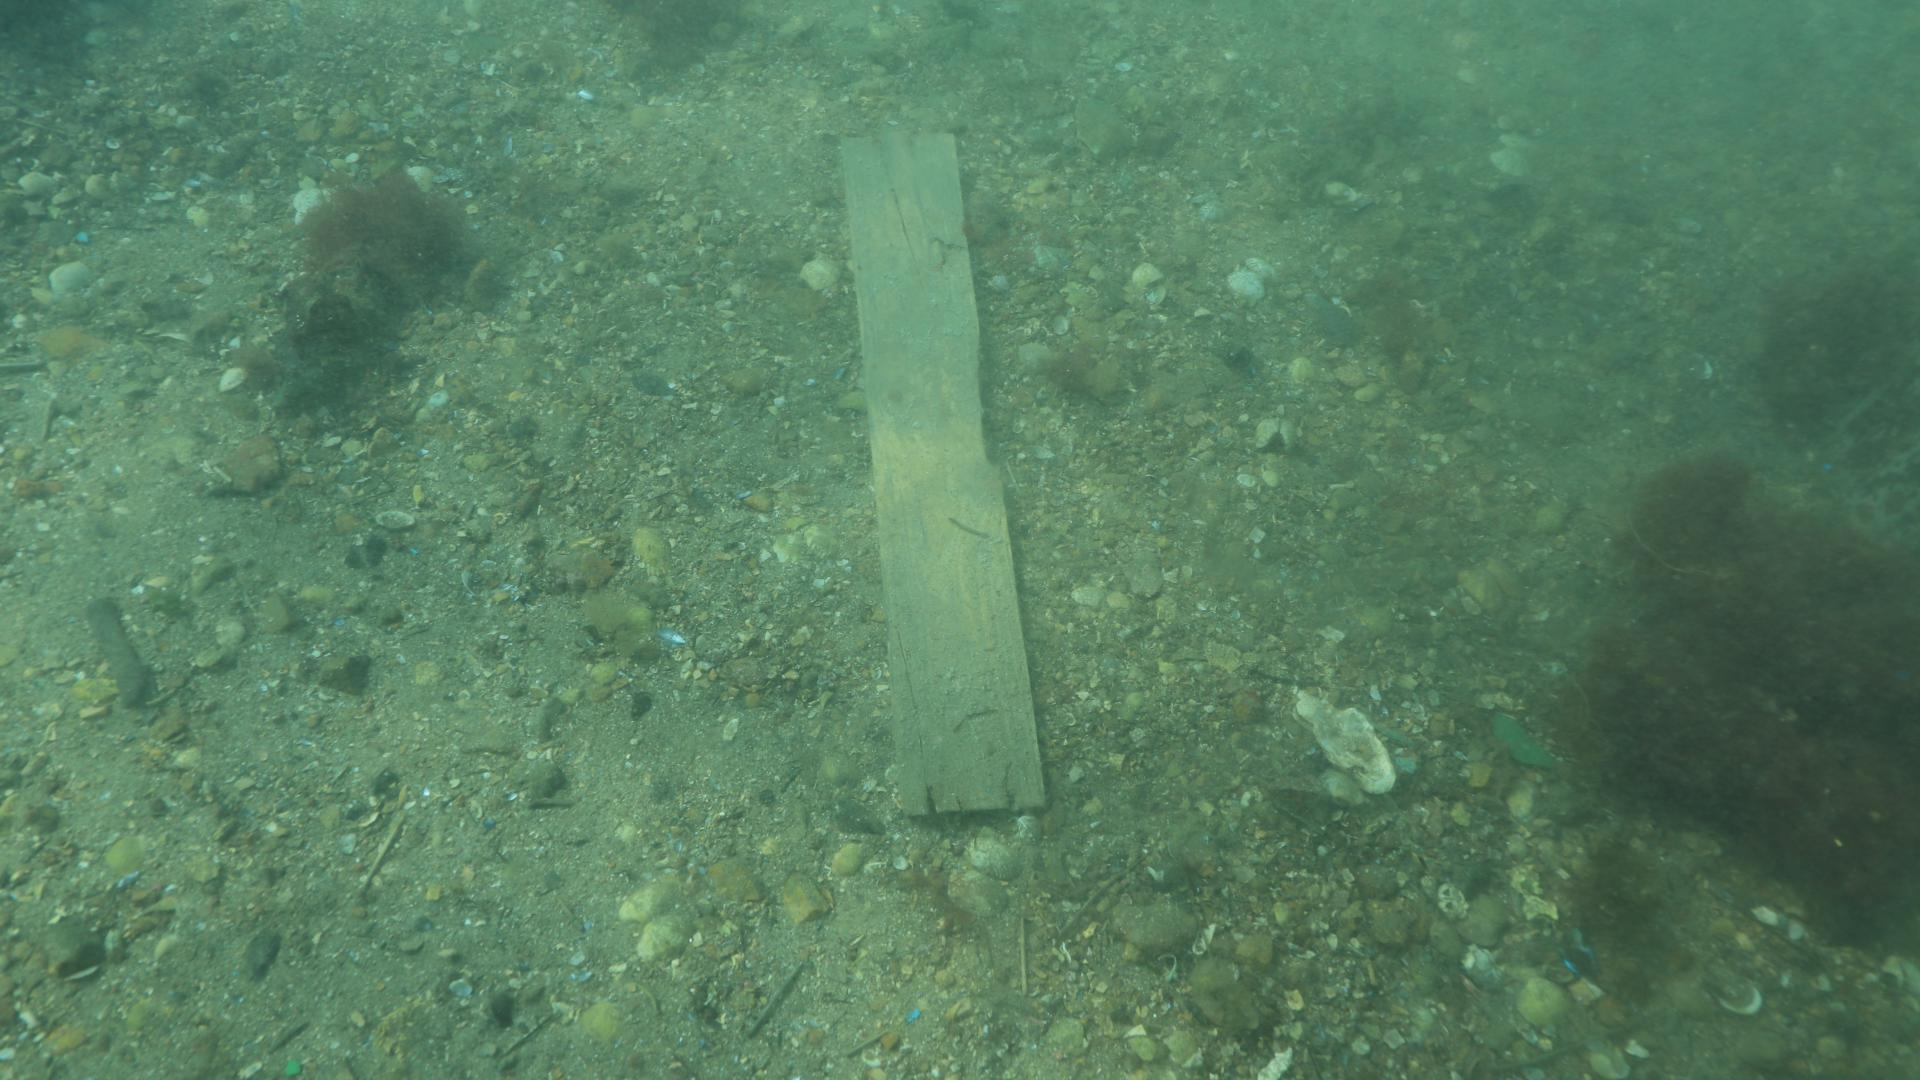wood: (836, 125, 1052, 823)
